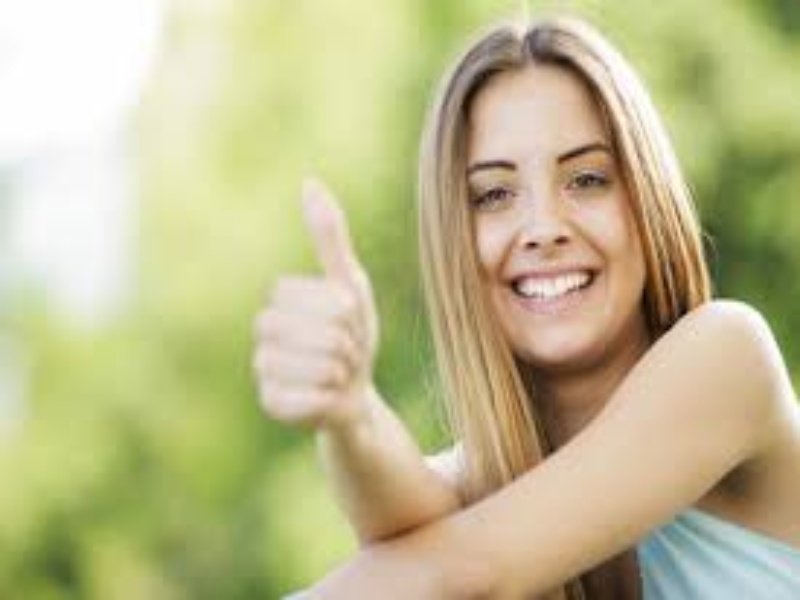smile: (462, 68, 644, 361)
thumbup: (253, 176, 381, 428)
